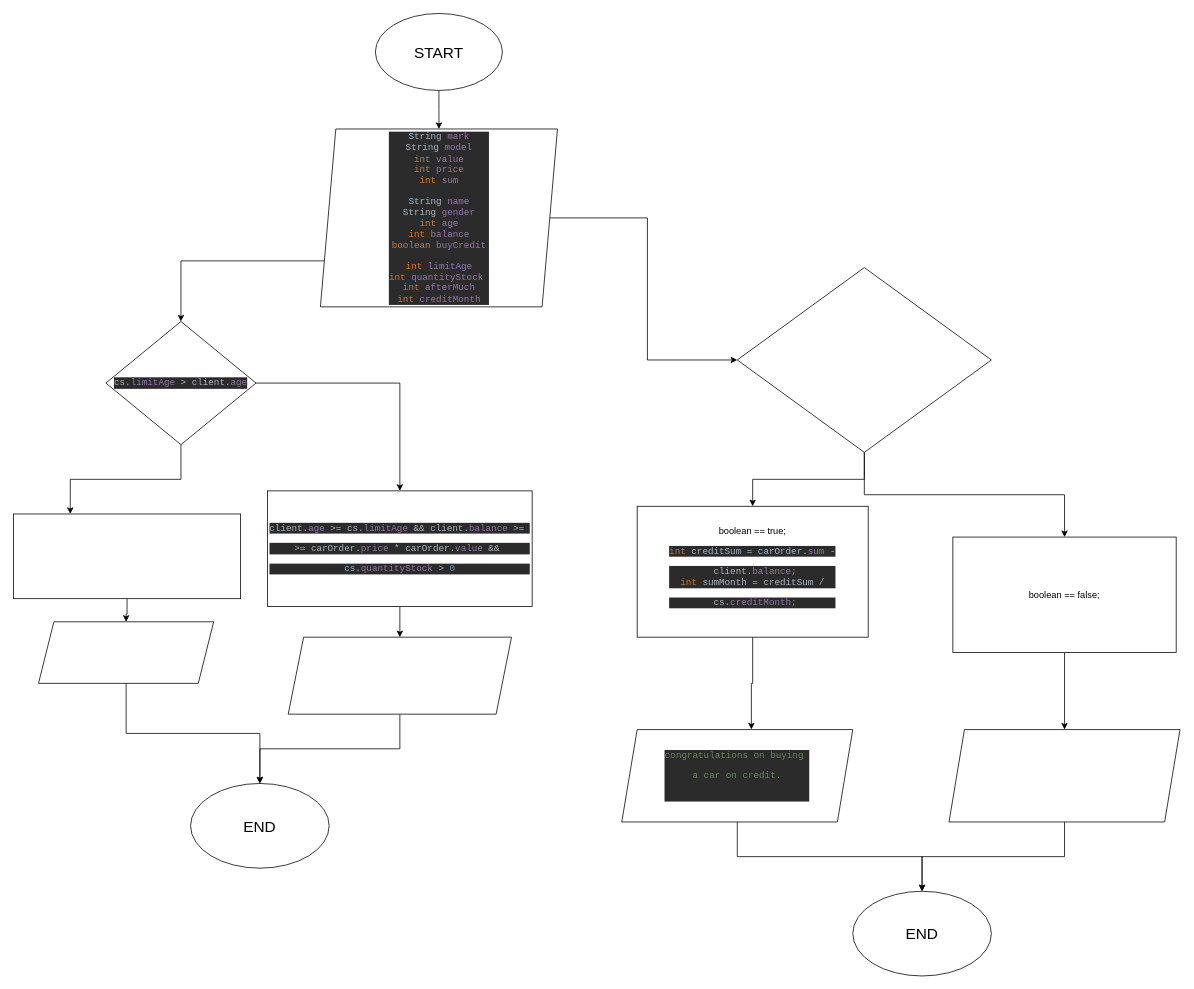
This 1194x989 diagram has some shape labels left out. Here are the shapes that lost their labels. From the top down, the centre of each, then its label:
point (864, 359): boolean clientCredit
point (127, 556): cs. afterMuch = cs. limitAge - client. age ;
point (126, 652): " come through after " + cs. afterMuch + " year."
point (399, 675): " congratulations on your purchase. Your balance "
point (1064, 775): " come back later."
